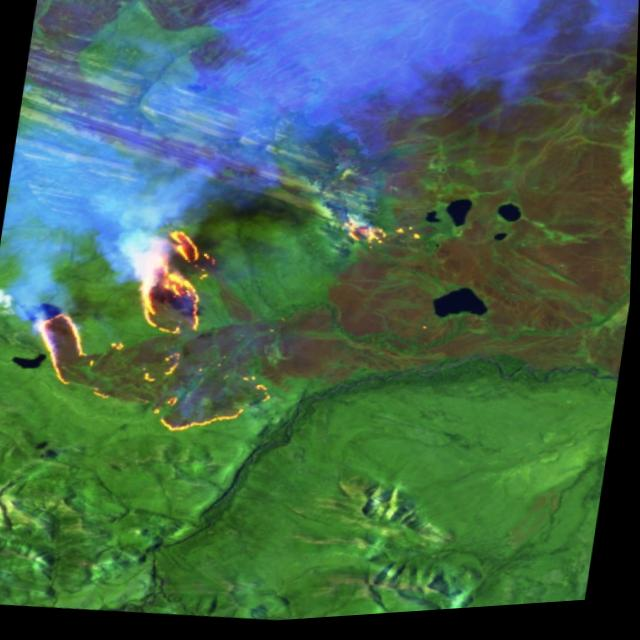fire: (15, 202, 303, 458), (330, 205, 430, 267)
